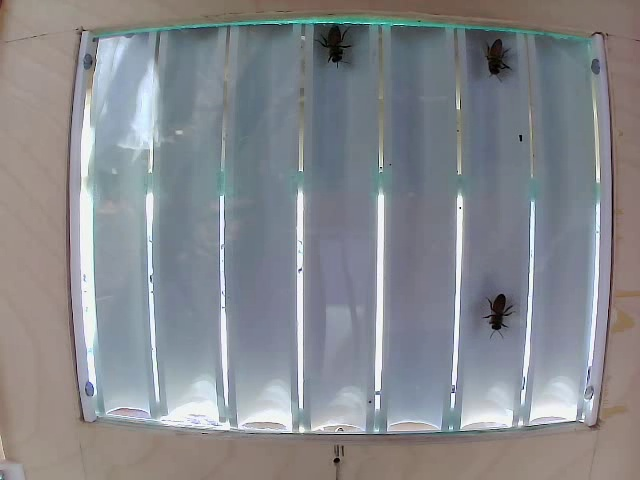bee: (470, 285, 530, 342), (324, 26, 376, 69), (481, 47, 519, 95)
